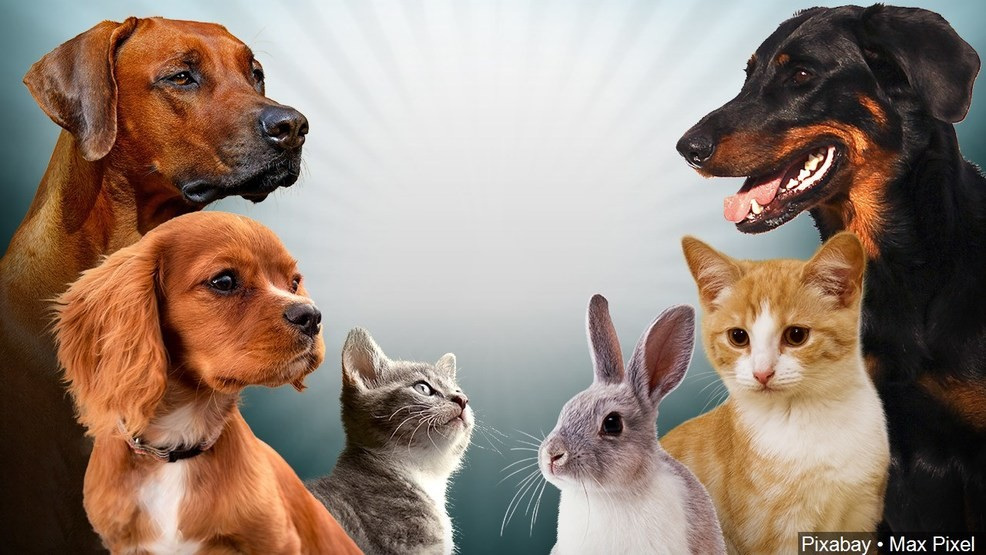cat: (663, 231, 889, 555), (335, 334, 477, 555)
dog: (49, 222, 320, 554), (682, 4, 986, 259), (13, 10, 313, 212)
rabbit: (527, 287, 715, 555)
